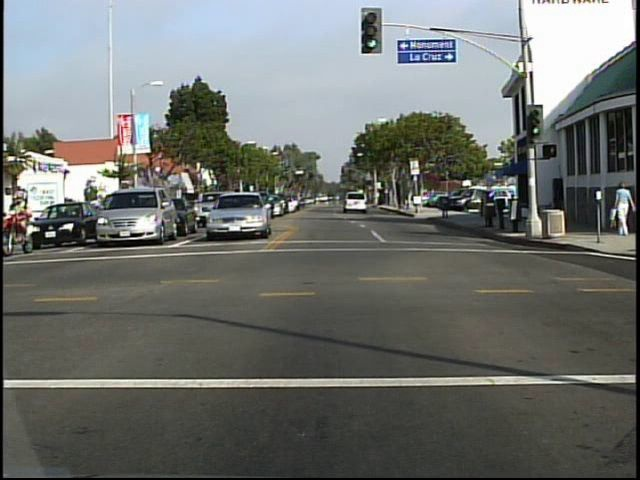person: (5, 186, 35, 256), (608, 176, 637, 242)
